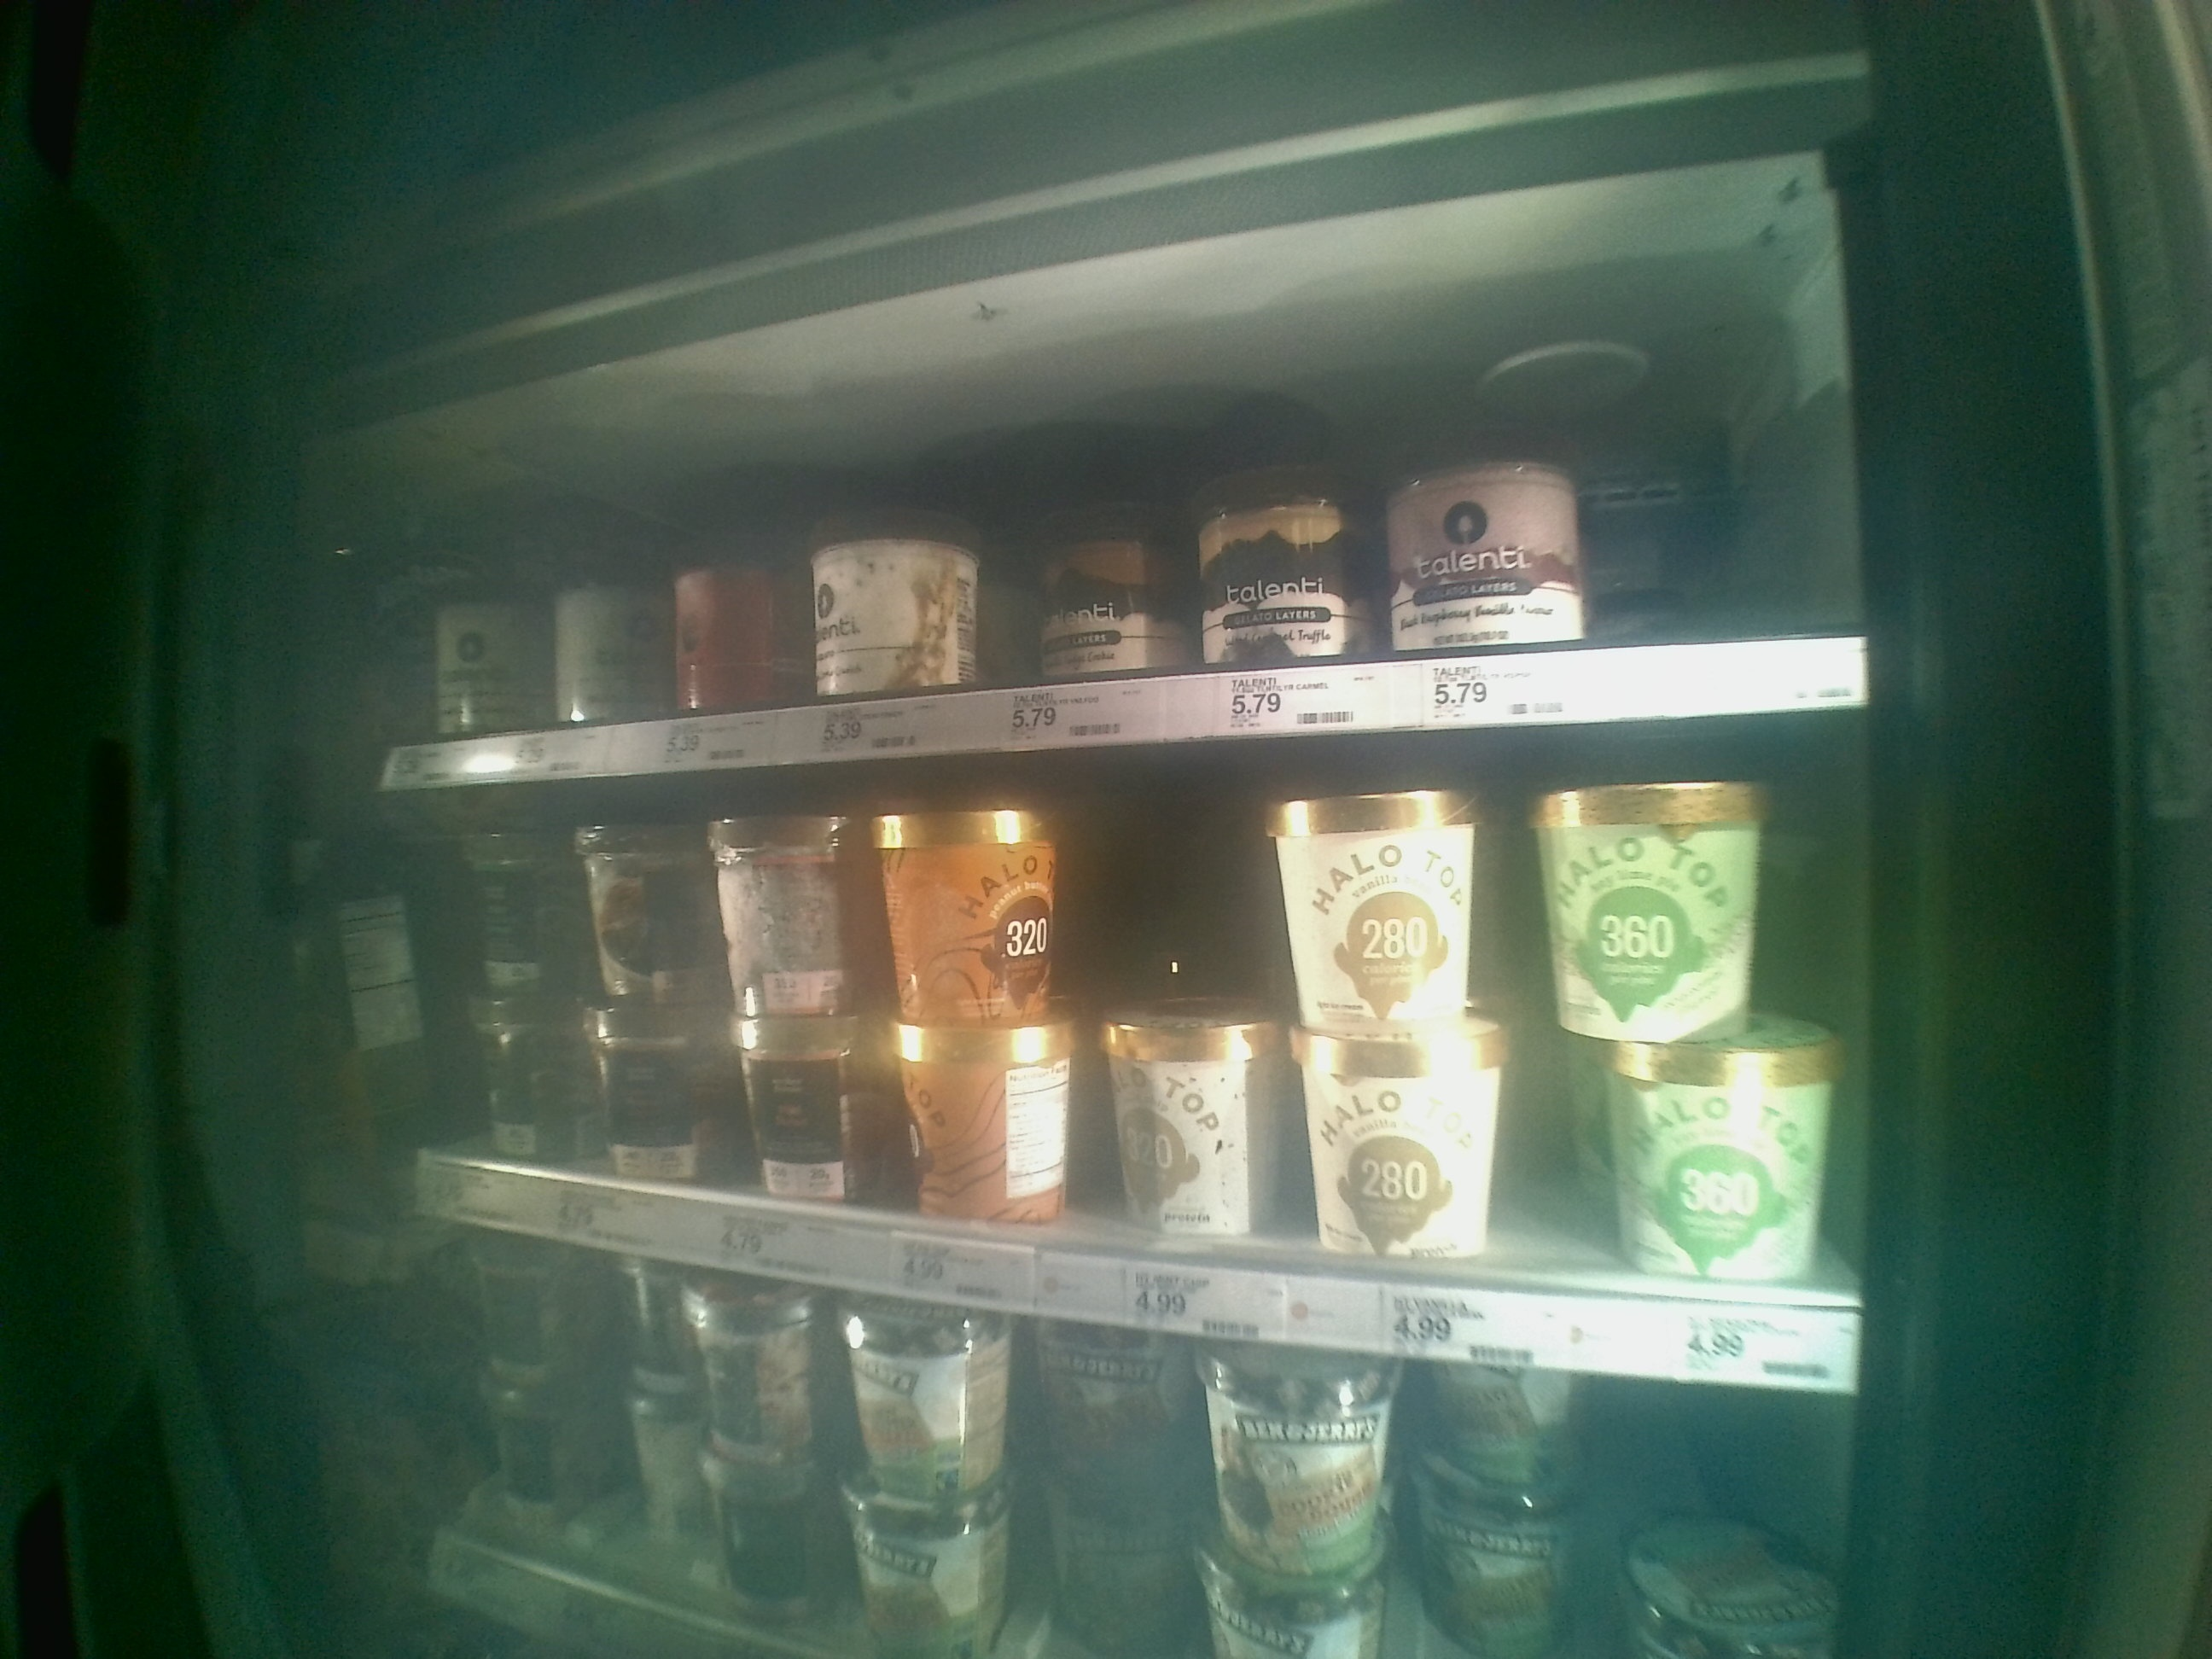shelf: (380, 711, 1867, 1396), (383, 345, 1865, 784)
